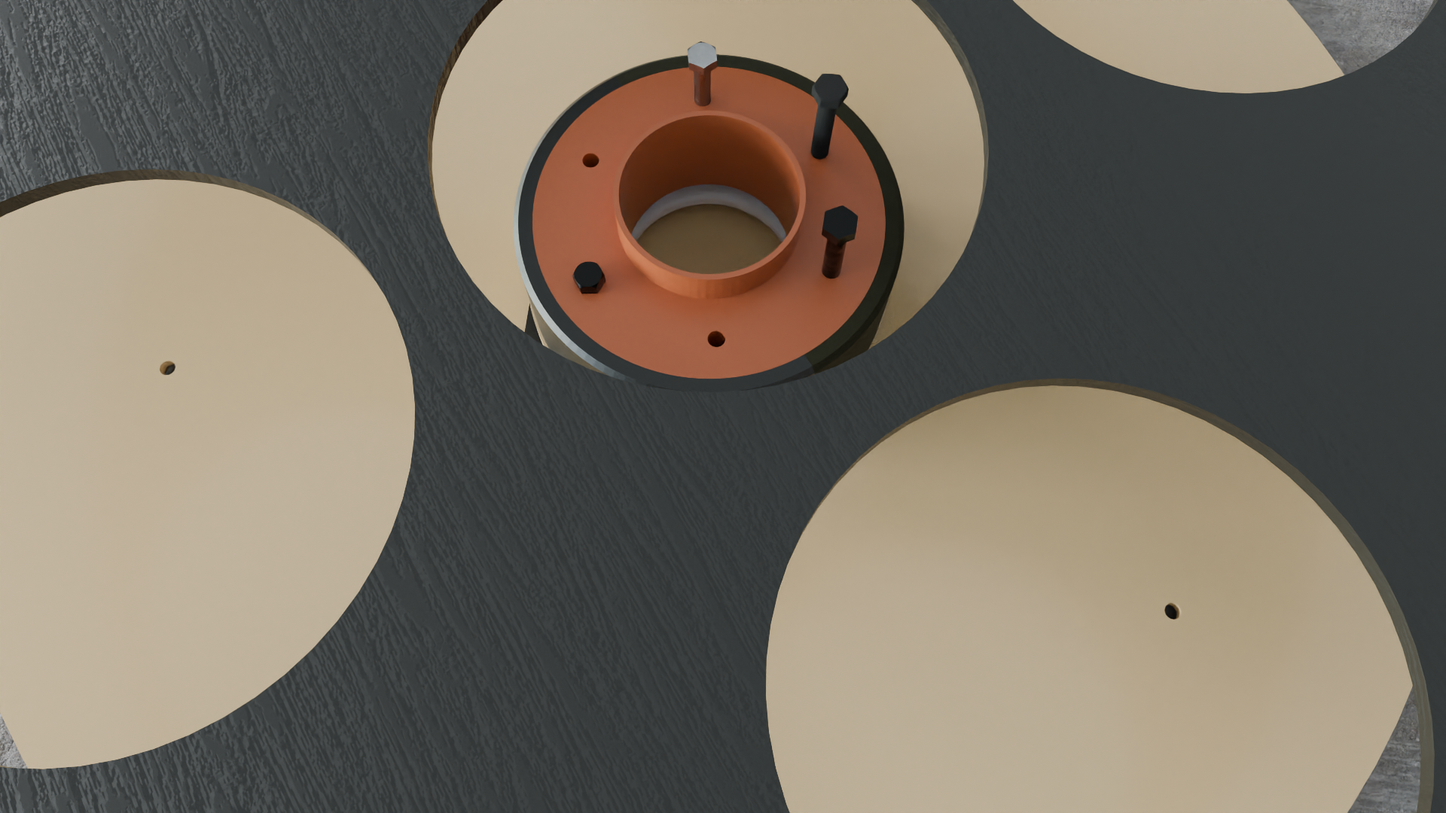bolt: (822, 206, 858, 239), (813, 74, 849, 102), (572, 261, 605, 288), (688, 41, 717, 69)
